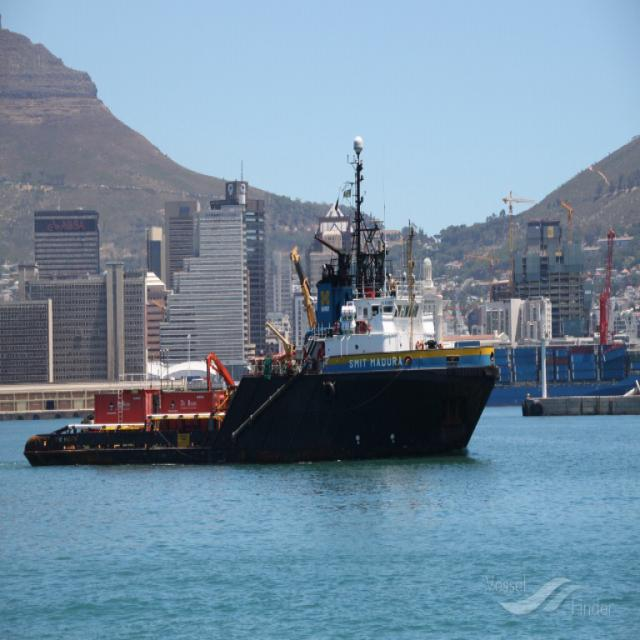tugboat: (23, 151, 495, 467)
